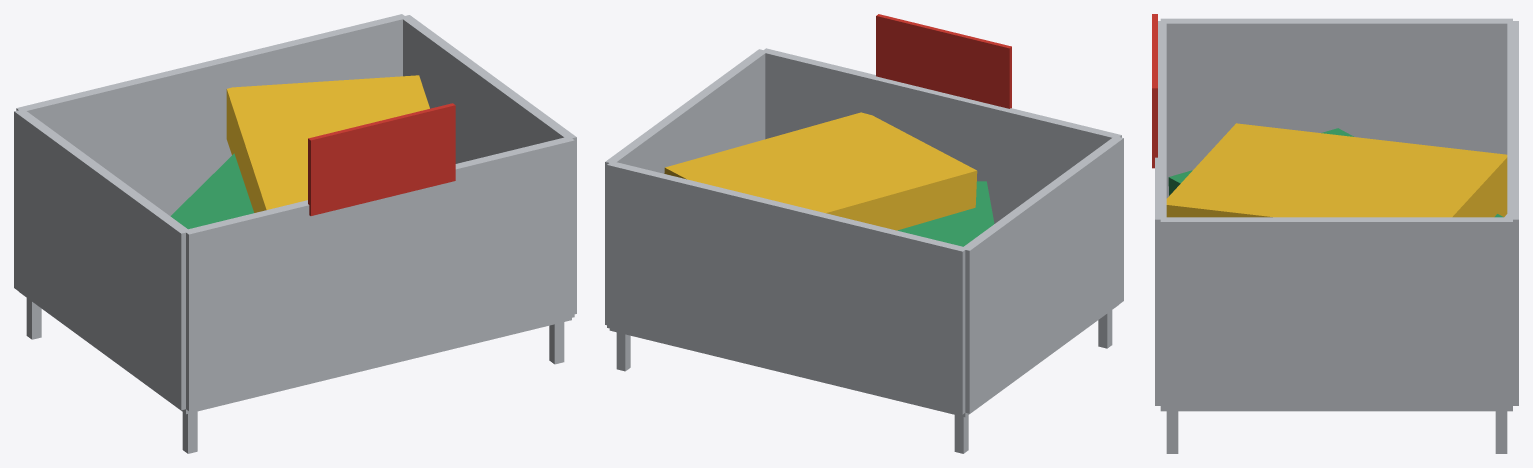
Rendered from sale_basket.glb.
The picture shows the model from 3 angles, left to right: view 1: azimuth 30°, elevation 25°; view 2: azimuth 150°, elevation 25°; view 3: azimuth 270°, elevation 25°; orthographic projection. The views are drawn at different scales.
Visible parts, largest first — view 1: side_basket_wire, cloth, tag_sale_tag, leg_basket_wire, bottom_basket_wire; view 2: side_basket_wire, cloth, tag_sale_tag, leg_basket_wire, bottom_basket_wire; view 3: side_basket_wire, cloth, bottom_basket_wire, leg_basket_wire, tag_sale_tag.
Part boxes in pixels (bbox=[...]): side_basket_wire: bbox=[14, 14, 576, 410]; cloth: bbox=[170, 75, 429, 229]; tag_sale_tag: bbox=[308, 103, 455, 215]; leg_basket_wire: bbox=[26, 298, 564, 453]; bottom_basket_wire: bbox=[19, 292, 571, 414]; side_basket_wire: bbox=[605, 48, 1123, 414]; cloth: bbox=[664, 112, 994, 246]; tag_sale_tag: bbox=[876, 14, 1011, 108]; leg_basket_wire: bbox=[616, 310, 1112, 453]; bottom_basket_wire: bbox=[609, 305, 1118, 417]; side_basket_wire: bbox=[1155, 18, 1518, 408]; cloth: bbox=[1166, 123, 1507, 217]; bottom_basket_wire: bbox=[1160, 214, 1512, 411]; leg_basket_wire: bbox=[1166, 411, 1507, 453]; tag_sale_tag: bbox=[1152, 14, 1157, 168].
Bounding box in the file's own units: 0.82 × 0.575 × 0.625.
